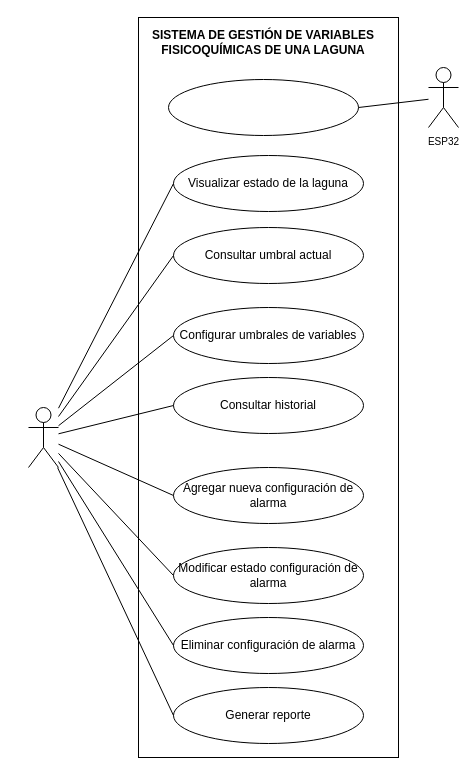
This 476x775 diagram has some shape labels left out. Here are the shapes that lost their labels. From the top down, the centre of each, then its label:
pixel 263 107: Registrar mediciones
pixel 43 437: Técnico ambiental
